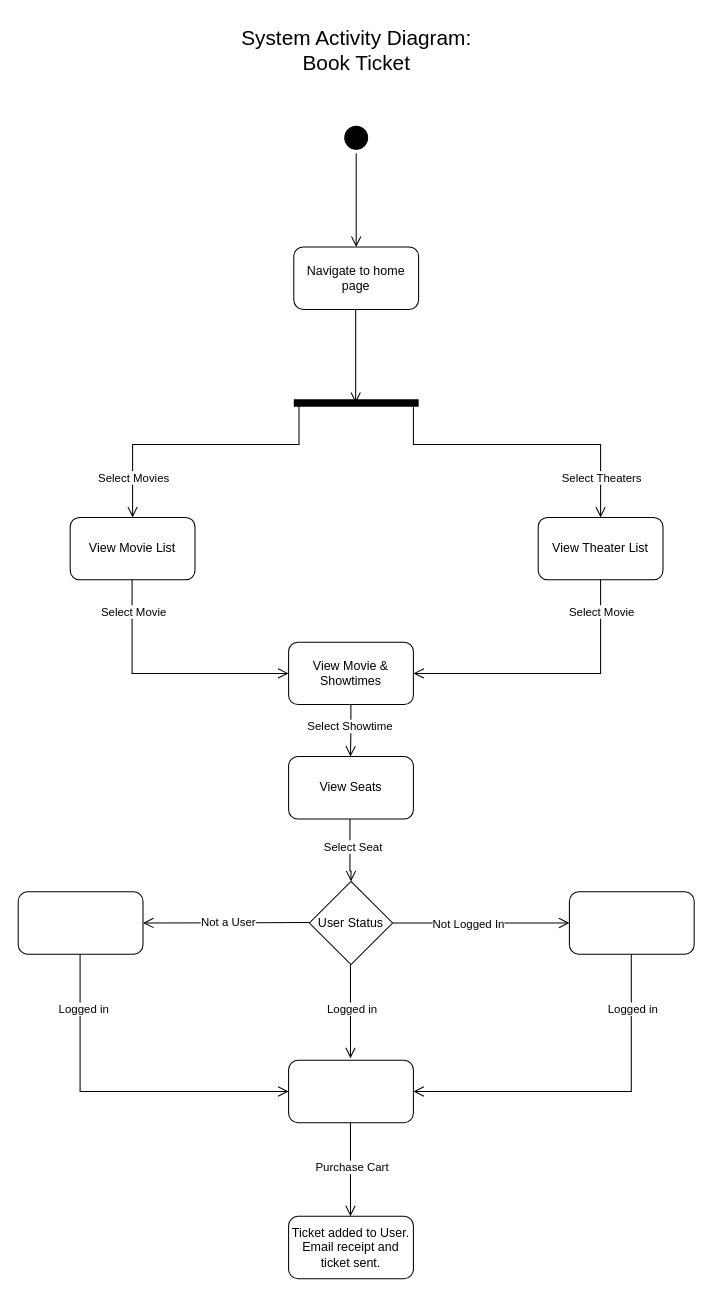
Image size: 712x1297. Some labels were removed from this diagram. Here are the shapes that lost their labels. From the top down, the box of each, then its label:
(17, 891, 143, 954): Create User
(568, 891, 694, 954): User Login
(288, 1059, 413, 1123): Add Ticket to Cart
